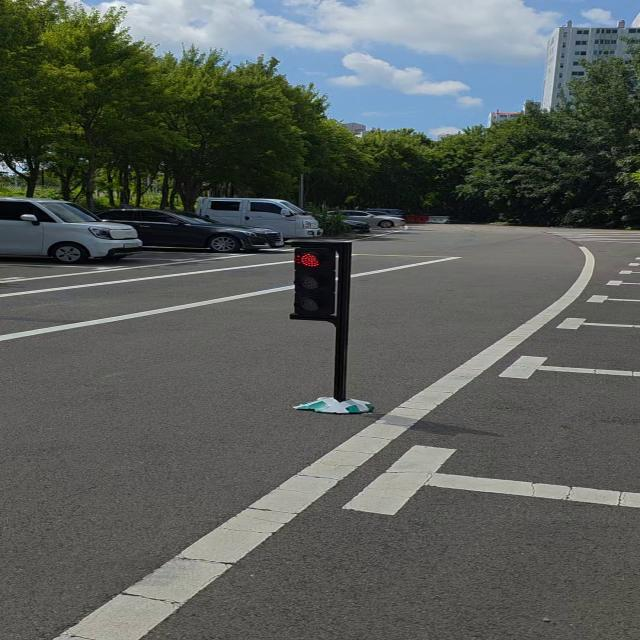red: (276, 240, 356, 326)
